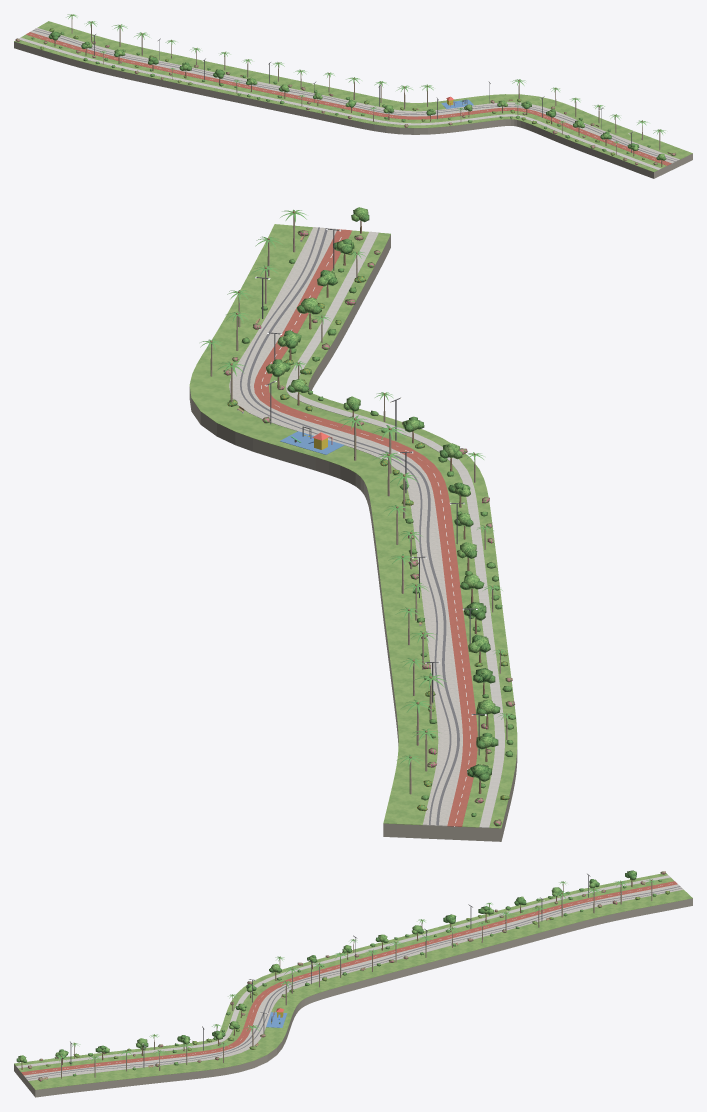
Rendered from parque_03.glb.
3 views of the same model, one above another, from view 1: azimuth 30°, elevation 25°; view 2: azimuth 150°, elevation 25°; view 3: azimuth 270°, elevation 25° (orthographic). The views are drawn at different scales.
Parts seen in each view (by area): view 1: parque_03; view 2: parque_03; view 3: parque_03.
Boxes of the visible parts, x1,y1,x2,y2 form: parque_03: (14,21,692,178); parque_03: (189,224,517,841); parque_03: (14,873,692,1097).
Bounding box in the file's own units: 185 × 14.72 × 246.
Materials: 25 (12 with a texture image).
